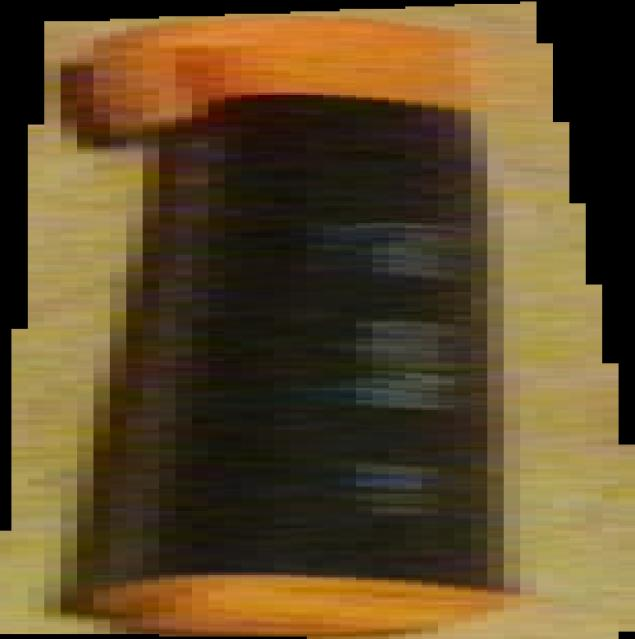orange: (1, 1, 635, 639)
